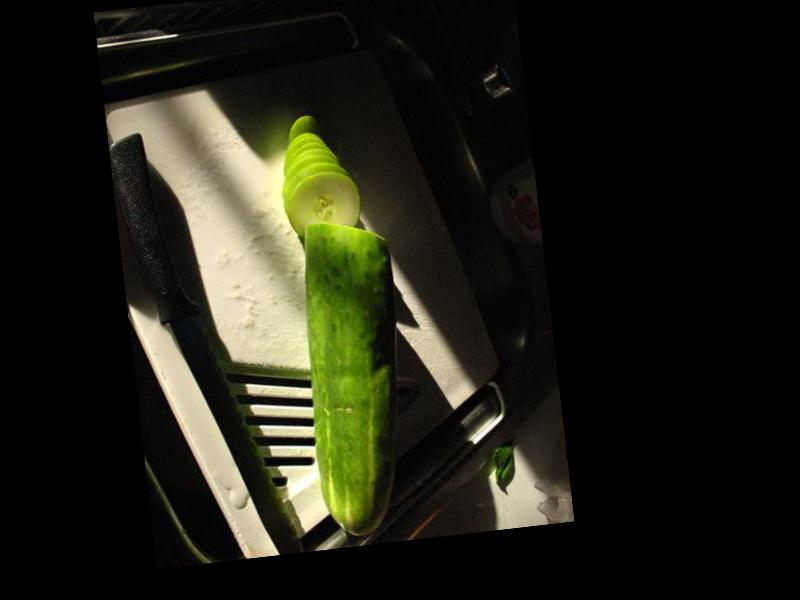Cucumber: (290, 213, 421, 539)
